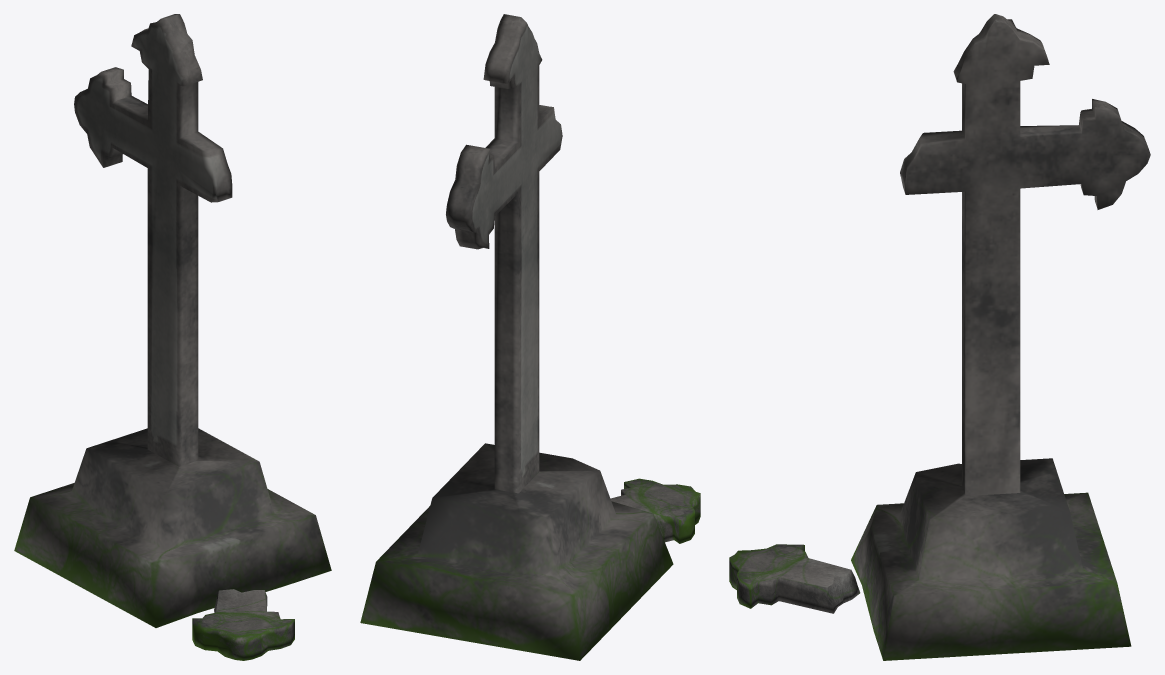
File: tumba_cruz_2_rota.fbx
The picture shows the model from 3 angles, left to right: view 1: azimuth 30°, elevation 25°; view 2: azimuth 150°, elevation 25°; view 3: azimuth 270°, elevation 25°; orthographic projection. The views are drawn at different scales.
Parts seen in each view (by area): view 1: tumba2:pCube13; view 2: tumba2:pCube13; view 3: tumba2:pCube13.
Part boxes in pixels (left/top/right/bottom): tumba2:pCube13: left=14, top=14, right=331, bottom=660; tumba2:pCube13: left=360, top=14, right=700, bottom=660; tumba2:pCube13: left=729, top=14, right=1150, bottom=660.
Size of the model in its own units: 1.72 by 4.08 by 2.66.
